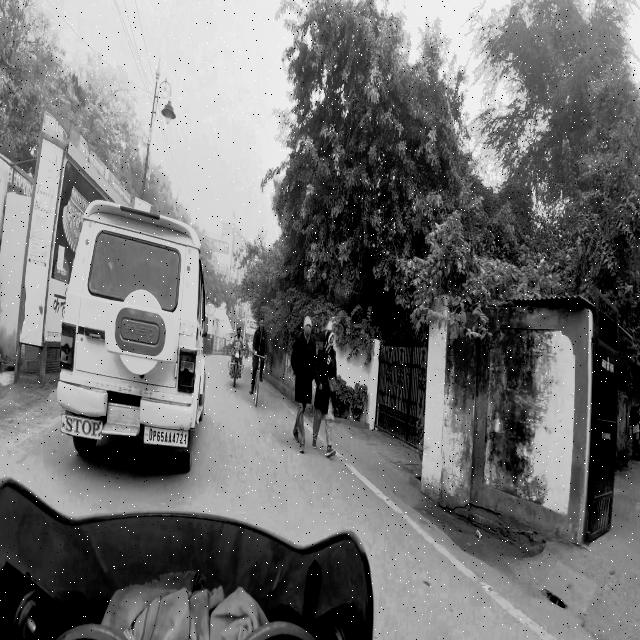Car: (60, 186, 216, 480)
